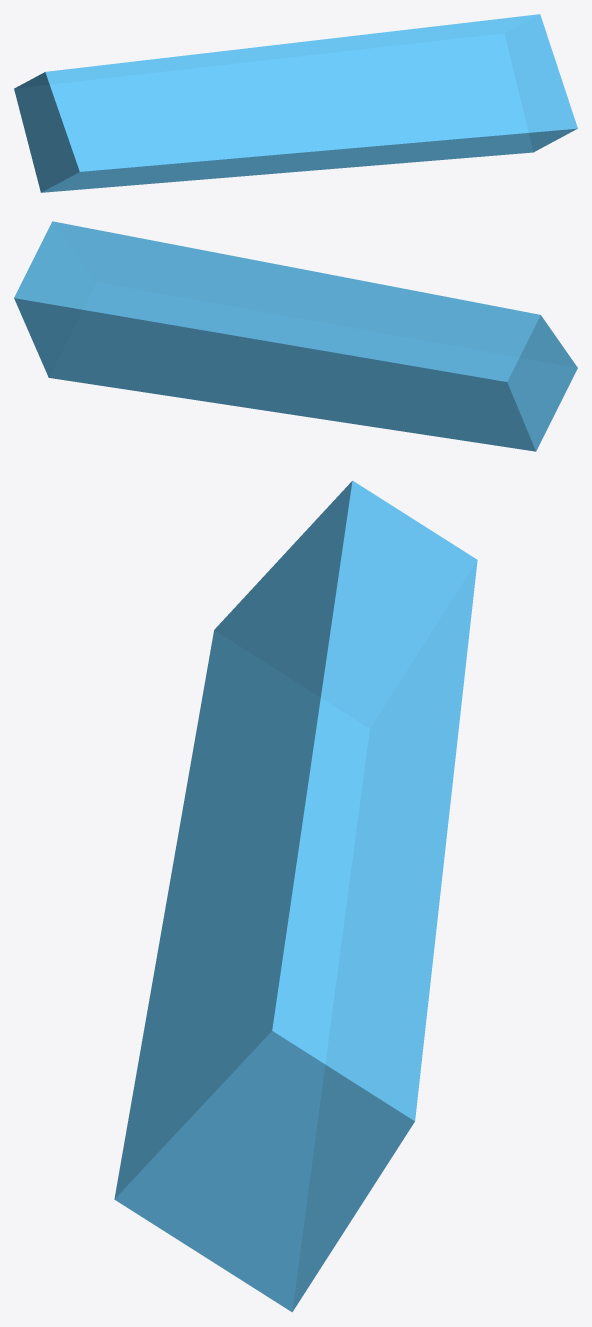
Rendered from Event_420107950_HErechit_34.fbx.
The picture shows the model from 3 angles, top to bottom: view 1: azimuth 30°, elevation 25°; view 2: azimuth 150°, elevation 25°; view 3: azimuth 270°, elevation 25°; orthographic projection. The views are drawn at different scales.
Parts seen in each view (by area): view 1: Model; view 2: Model; view 3: Model.
Part boxes in pixels (x1,y1,x2,y2): Model: (14,14,577,192); Model: (14,221,577,451); Model: (114,480,477,1312).
Bounding box in the file's own units: 1.45 × 0.5406 × 0.4808.
